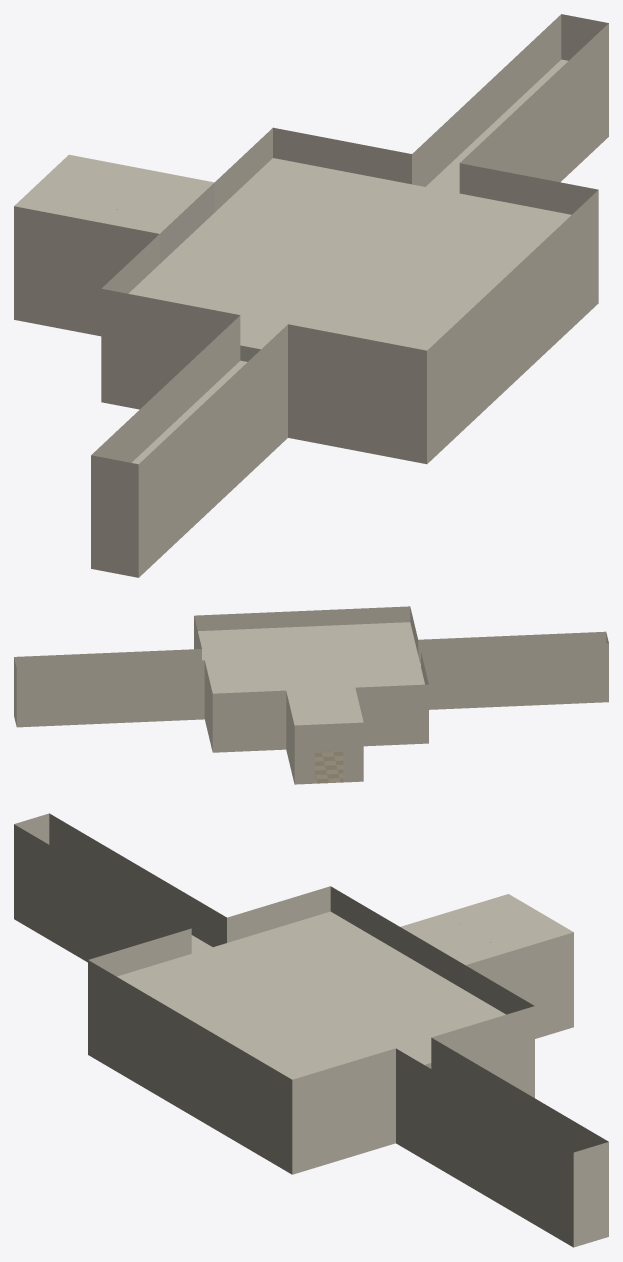
File: clocktower_int.glb
The picture shows the model from 3 angles, top to bottom: view 1: azimuth 30°, elevation 25°; view 2: azimuth 150°, elevation 25°; view 3: azimuth 270°, elevation 25°; orthographic projection. The views are drawn at different scales.
Parts seen in each view (by area): view 1: clocktower_int; view 2: clocktower_int; view 3: clocktower_int.
Boxes of the visible parts, <box> form: clocktower_int: <box>14,14,608,577</box>; clocktower_int: <box>14,606,608,784</box>; clocktower_int: <box>14,813,608,1247</box>.
Size of the model in its own units: 45.93 by 6 by 34.05.
